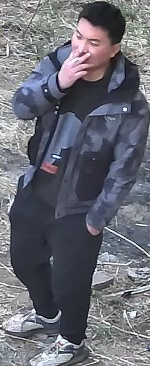smoking: (41, 3, 144, 125)
